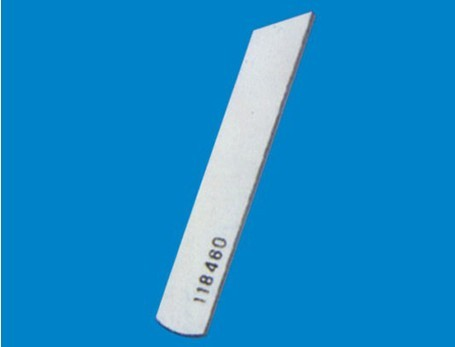knief: (163, 15, 319, 336)
